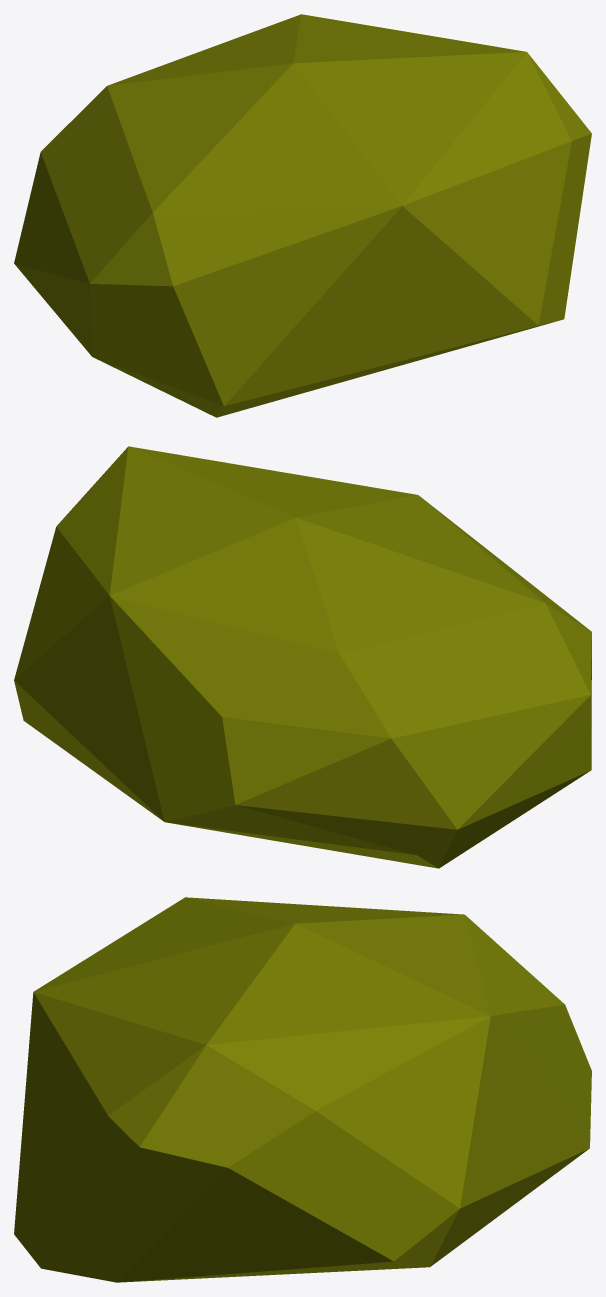
File: bush-4.glb
3 views of the same model, one above another, from view 1: azimuth 30°, elevation 25°; view 2: azimuth 150°, elevation 25°; view 3: azimuth 270°, elevation 25° (orthographic). The views are drawn at different scales.
Visible parts, largest first — view 1: Bush 4; view 2: Bush 4; view 3: Bush 4.
Part boxes in pixels (bbox=[...]): Bush 4: bbox=[14, 14, 591, 417]; Bush 4: bbox=[14, 446, 591, 868]; Bush 4: bbox=[14, 897, 591, 1282].
Size of the model in its own units: 4.36 by 2.21 by 3.8.
